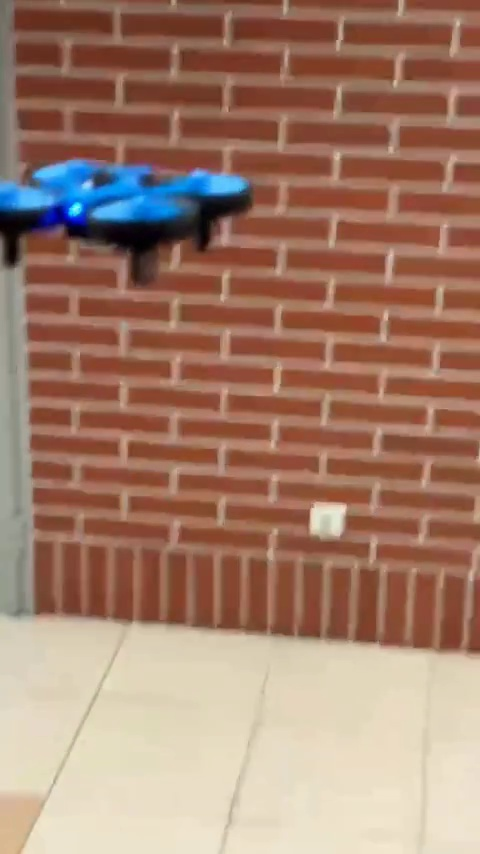drone: (0, 157, 257, 283)
